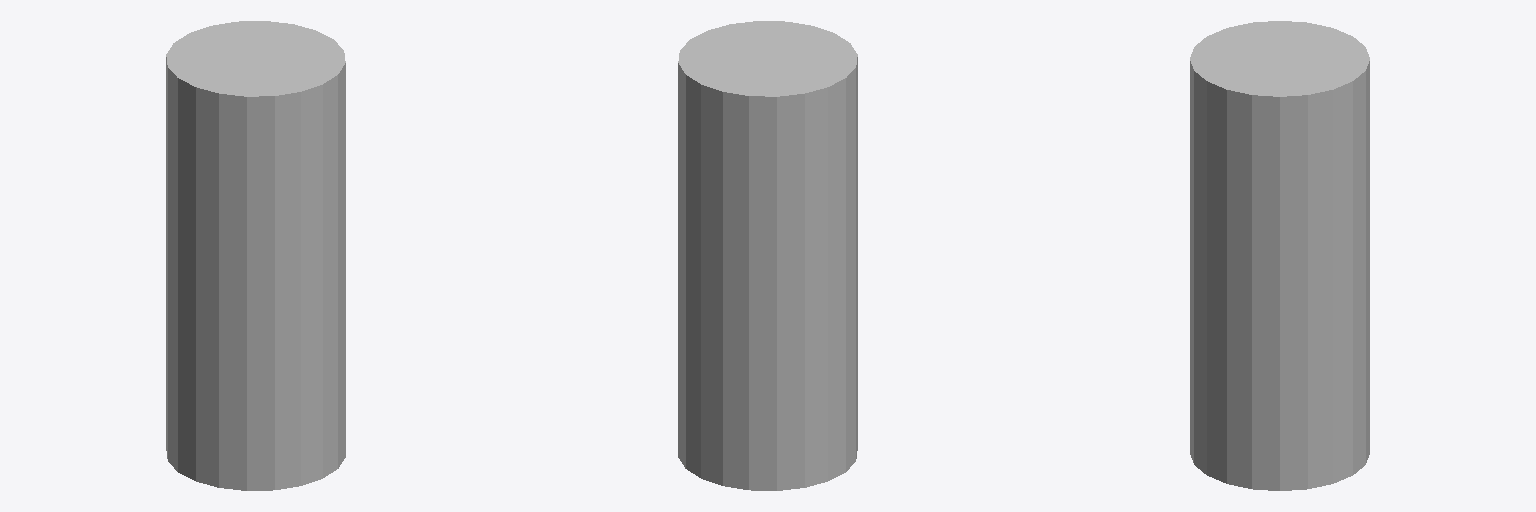
File: testCylinder.obj
3 views of the same model, side by side, from view 1: azimuth 30°, elevation 25°; view 2: azimuth 150°, elevation 25°; view 3: azimuth 270°, elevation 25° (orthographic).
Parts seen in each view (by area): view 1: pCylinder1; view 2: pCylinder1; view 3: pCylinder1.
Boxes of the visible parts, x1,y1,x2,y2 form: pCylinder1: [166, 21, 345, 490]; pCylinder1: [678, 21, 857, 490]; pCylinder1: [1190, 21, 1369, 490].
Size of the model in its own units: 2 by 4.82 by 2.